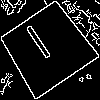I: (22, 23, 60, 68)
